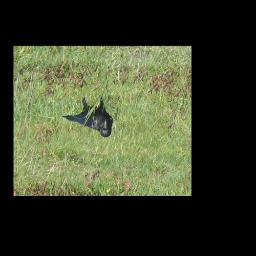Crow: (60, 95, 113, 137)
